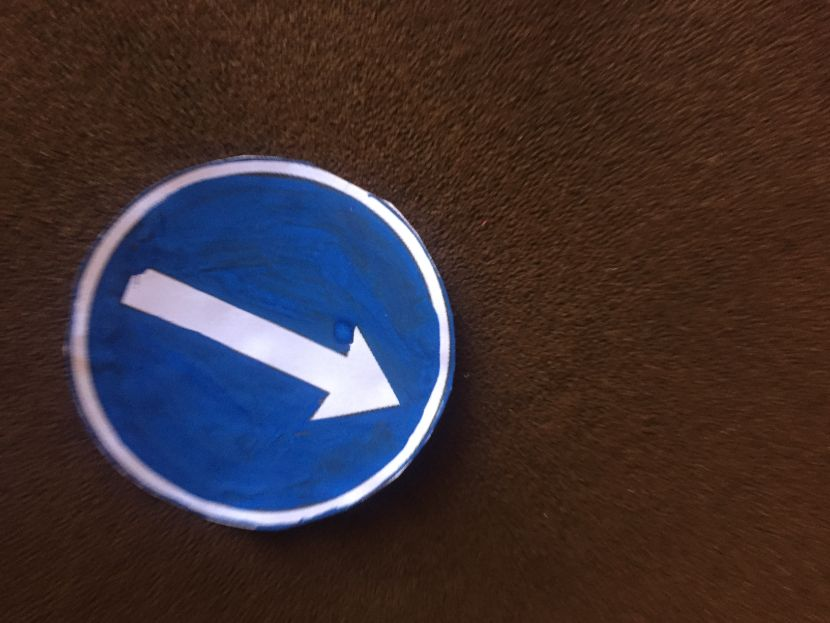go-stright: (70, 159, 451, 533)
